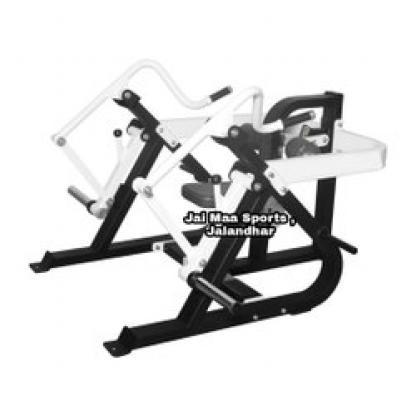seated dip machine: (28, 58, 386, 361)
